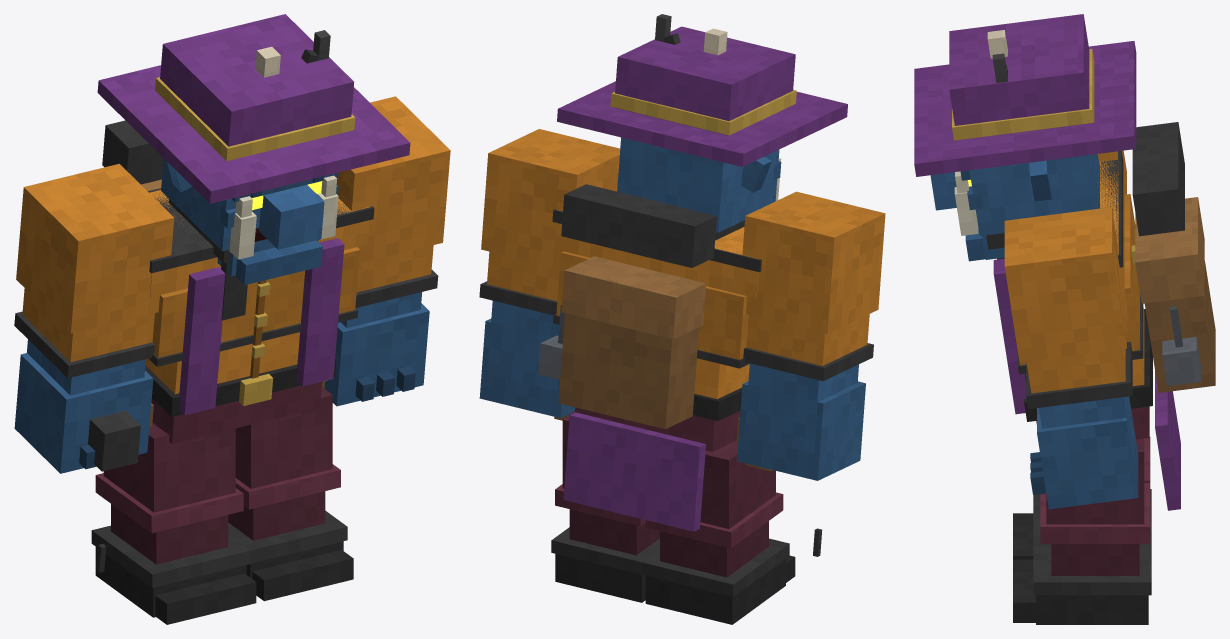
The model's file is ogre_marchand.glb.
3 views of the same model, side by side, from view 1: azimuth 30°, elevation 25°; view 2: azimuth 150°, elevation 25°; view 3: azimuth 270°, elevation 25° (orthographic). The views are drawn at different scales.
Parts seen in each view (by area): view 1: Head, ArmR, Torso, LegR, ArmL, LegL, HandR; view 2: Torso, ArmR, Head, ArmL, LegR, LegL; view 3: Head, ArmL, Torso, LegL, LegR.
Part boxes in pixels (<box>): Head: <box>97,14,410,285</box>; ArmR: <box>14,163,174,473</box>; Torso: <box>102,120,374,443</box>; LegR: <box>91,423,256,624</box>; ArmL: <box>324,96,450,406</box>; LegL: <box>228,387,353,601</box>; HandR: <box>88,410,140,572</box>; Torso: <box>538,184,772,531</box>; ArmR: <box>737,191,885,480</box>; Head: <box>557,14,847,240</box>; ArmL: <box>479,129,620,417</box>; LegR: <box>642,440,795,624</box>; LegL: <box>551,411,659,602</box>; Head: <box>914,14,1136,261</box>; ArmL: <box>1004,207,1138,509</box>; Torso: <box>993,122,1215,510</box>; LegL: <box>1013,438,1151,624</box>; LegR: <box>1013,437,1151,559</box>.
Size of the model in its own units: 1.46 by 2.1 by 1.04.
36 materials, 36 textured.
